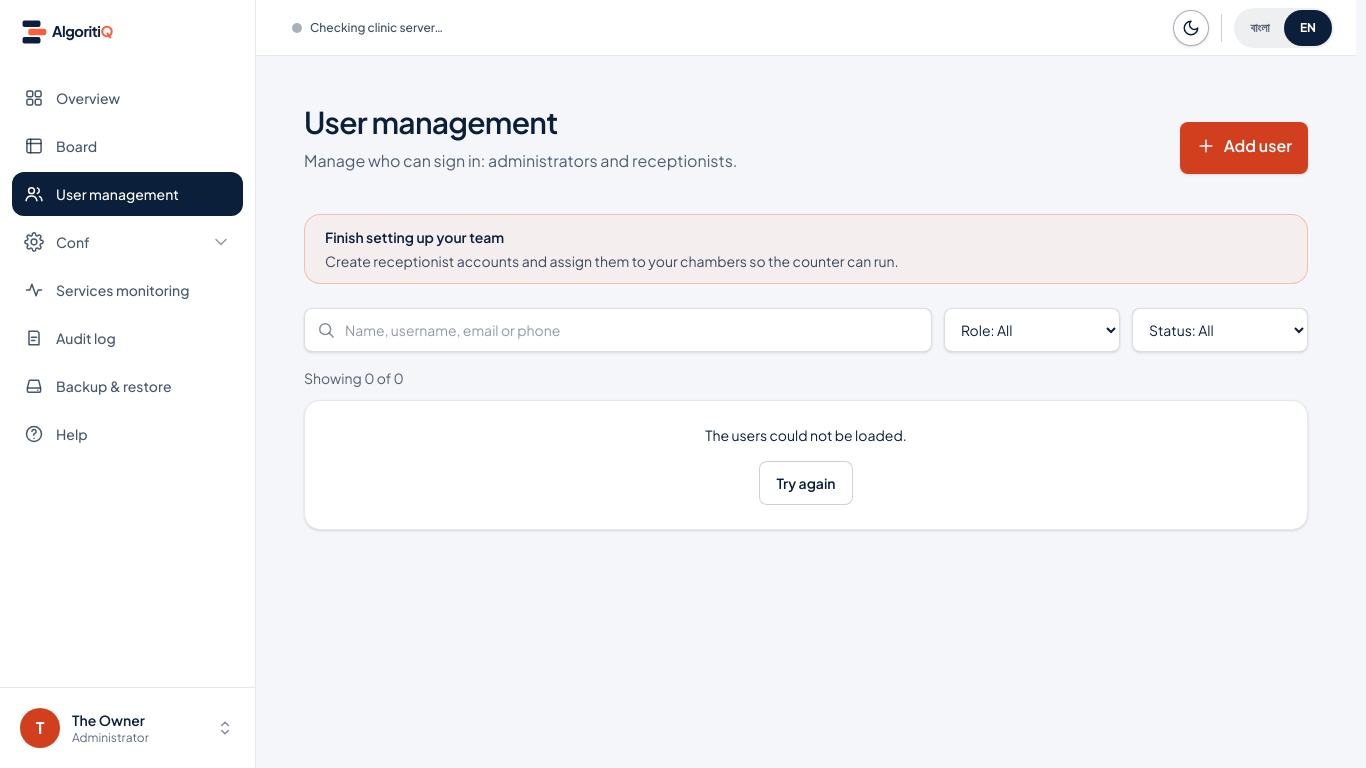
Test: users page › searching, filtering and sorting (on the tablet) › should offer a retry when the list cannot be loaded
The image size is (1366, 768).
Expected: the text "The users could not be loaded." is shown, [705,426,907,444]
Click the button "Try again". click: (806, 483)
box: [760,461,853,505]
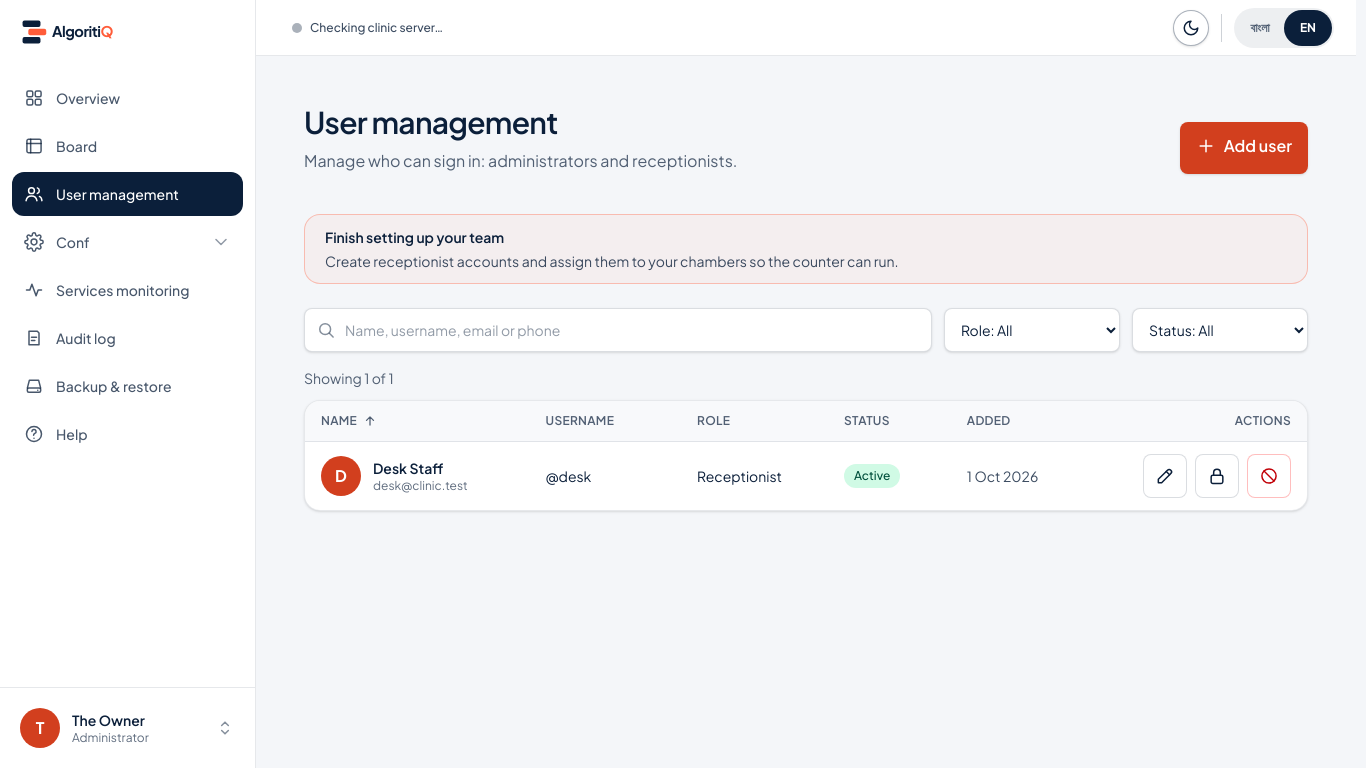
Result: the text "Desk Staff" is shown at [373,459,443,477]
